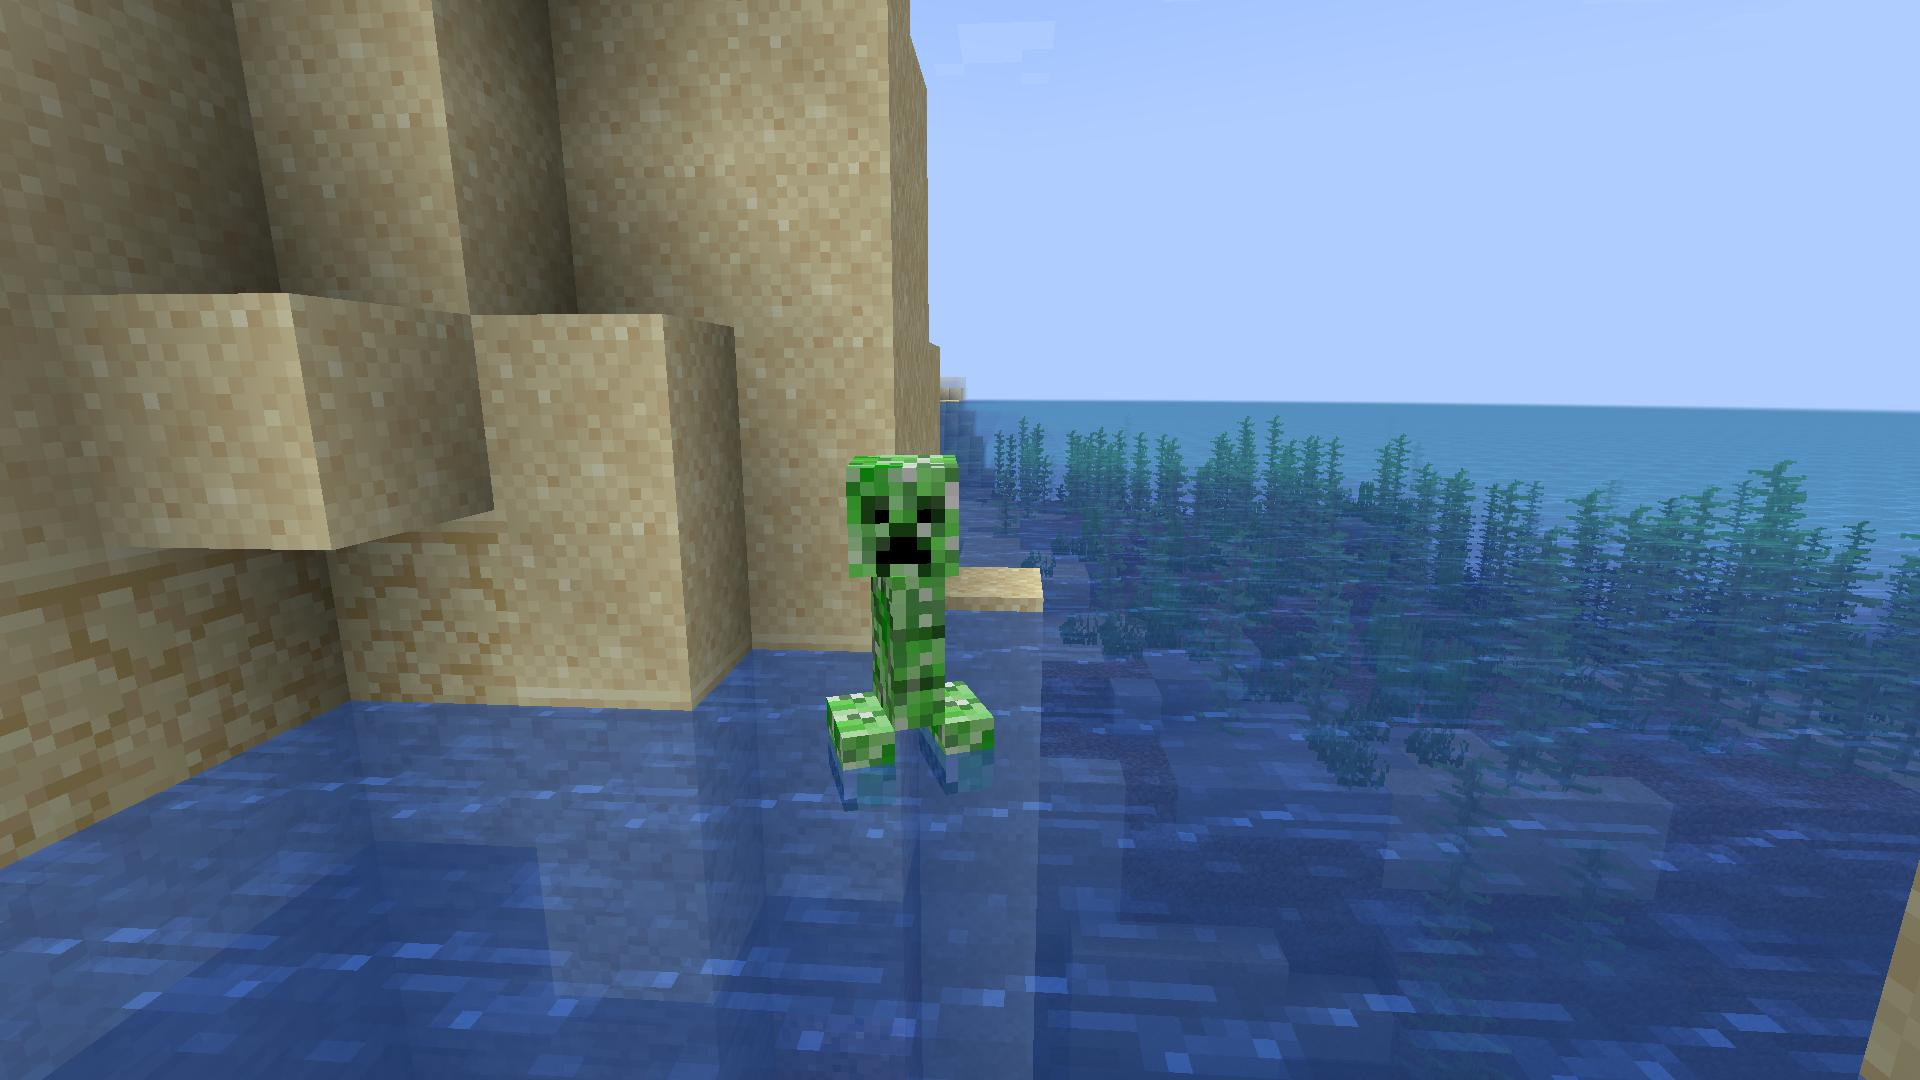creeper: (820, 442, 1005, 828)
